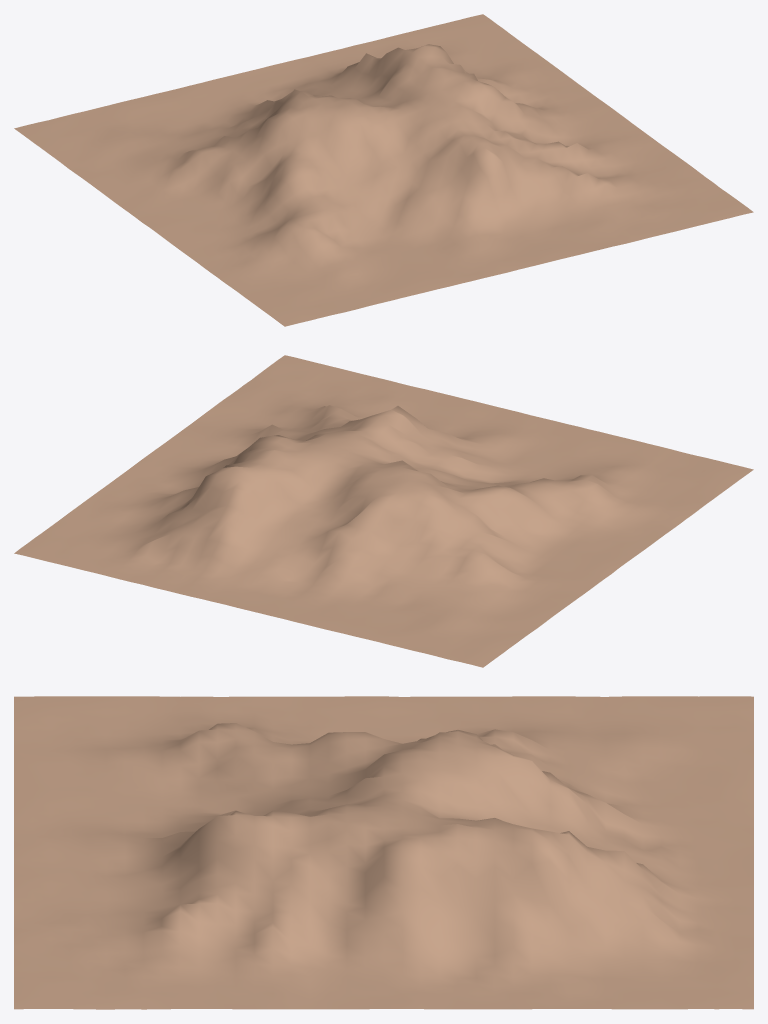
3 renders of one model, top to bottom at view 1: azimuth 30°, elevation 25°; view 2: azimuth 150°, elevation 25°; view 3: azimuth 270°, elevation 25°, orthographic. The views are drawn at different scales.
Visible parts, largest first — view 1: DM_lod_1; view 2: DM_lod_1; view 3: DM_lod_1.
Boxes of the visible parts, x1,y1,x2,y2 form: DM_lod_1: (14, 14, 753, 326); DM_lod_1: (14, 355, 753, 667); DM_lod_1: (14, 696, 753, 1009).
Size of the model in its own units: 300 by 38.01 by 300.
